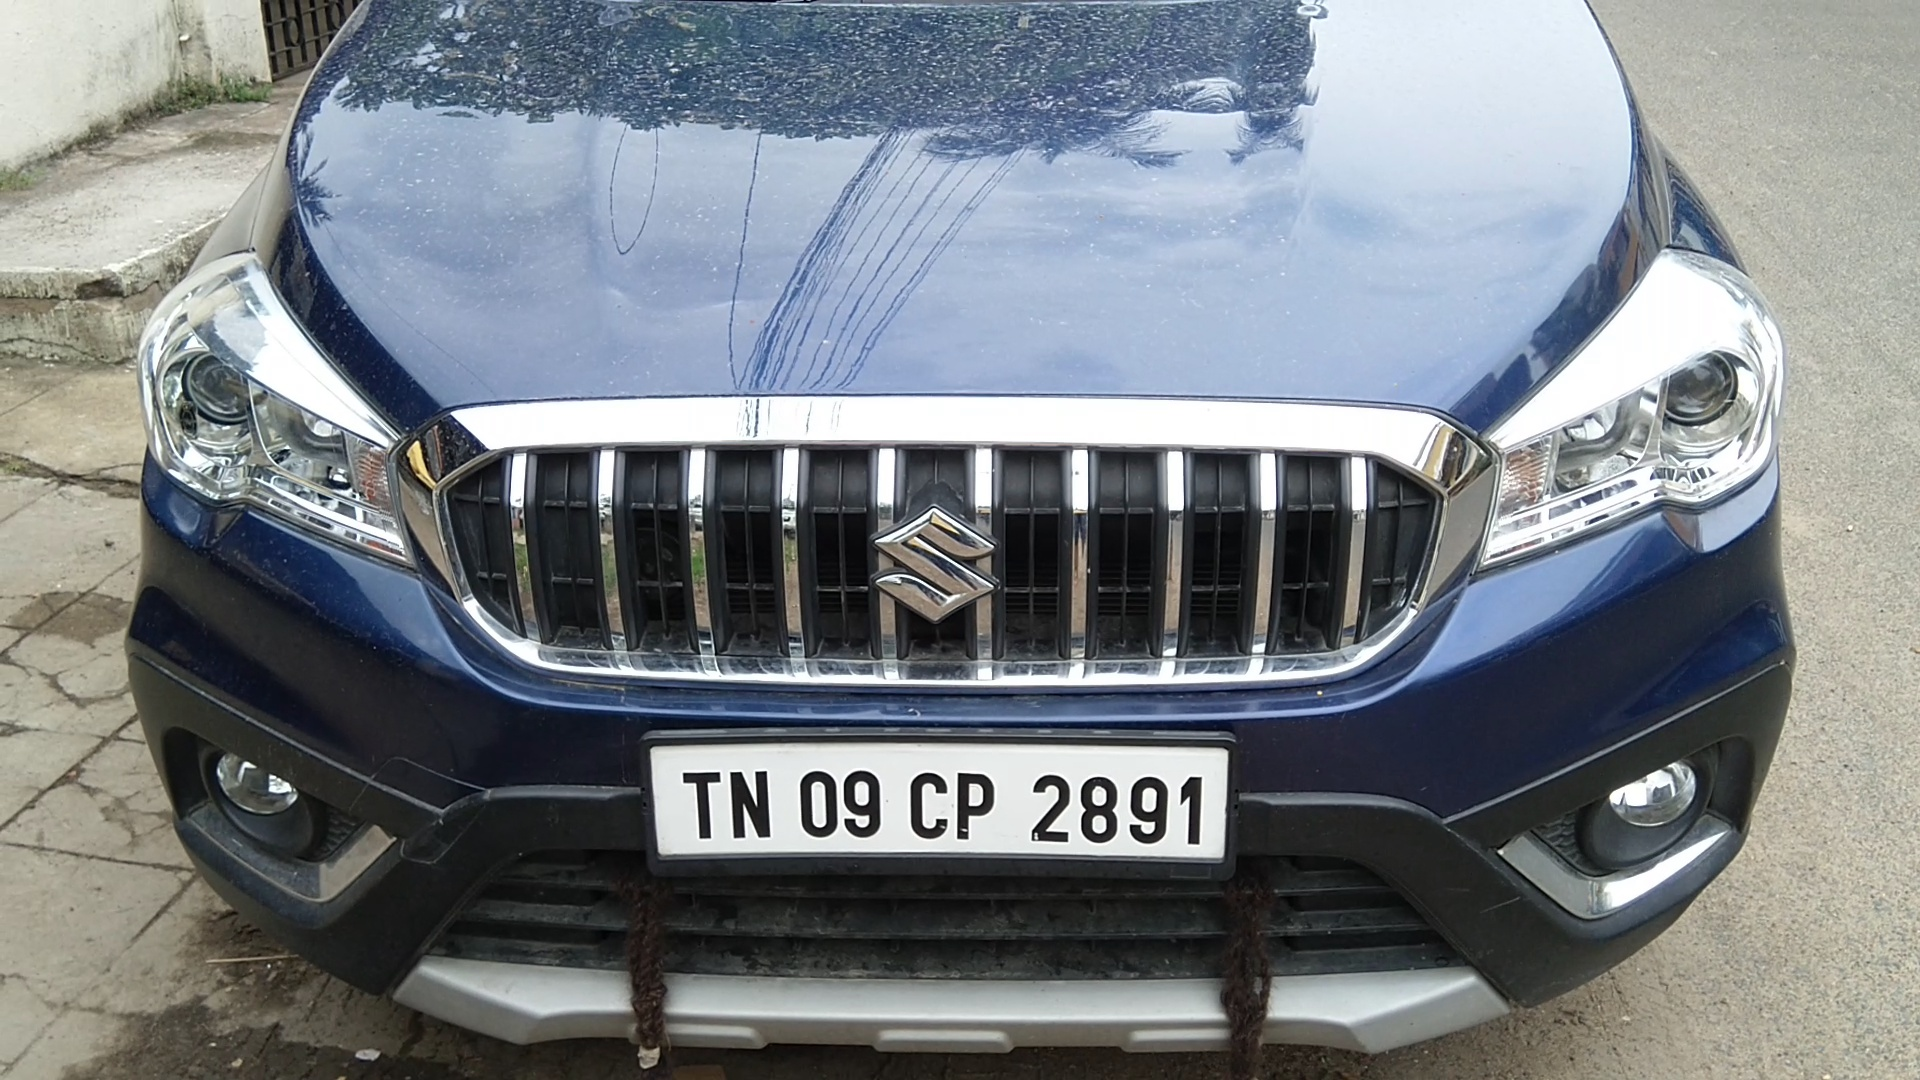front_grill: (419, 352, 1487, 708)
headlamp: (1487, 240, 1797, 649), (121, 247, 411, 582)
